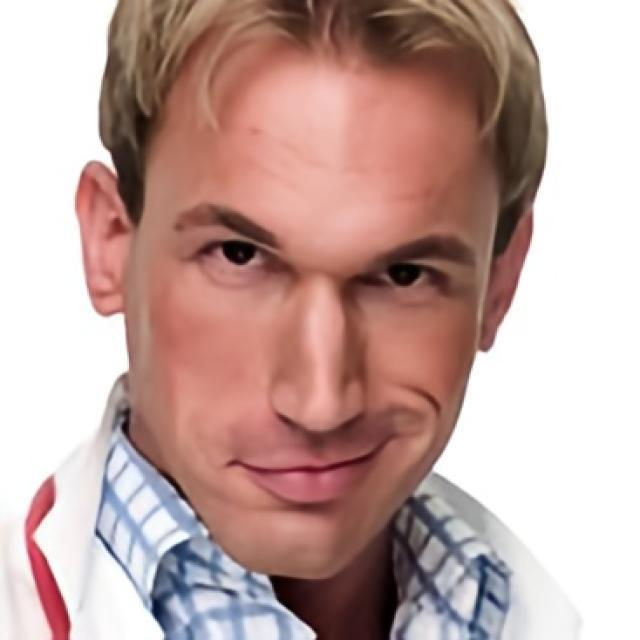content: (124, 49, 500, 582)
